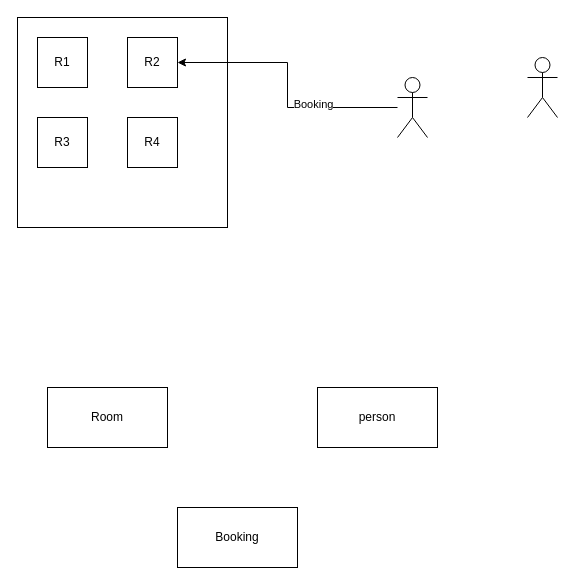
The diagram is 584 pixels wide and 585 high, and some of its shapes have lost their labels. The shapes that lost their labels are listed below. From the top down, each one's box as (x1, y1, x2, y2) in pixels, then its label:
(396, 76, 428, 138): Person A
(526, 56, 558, 118): person B
